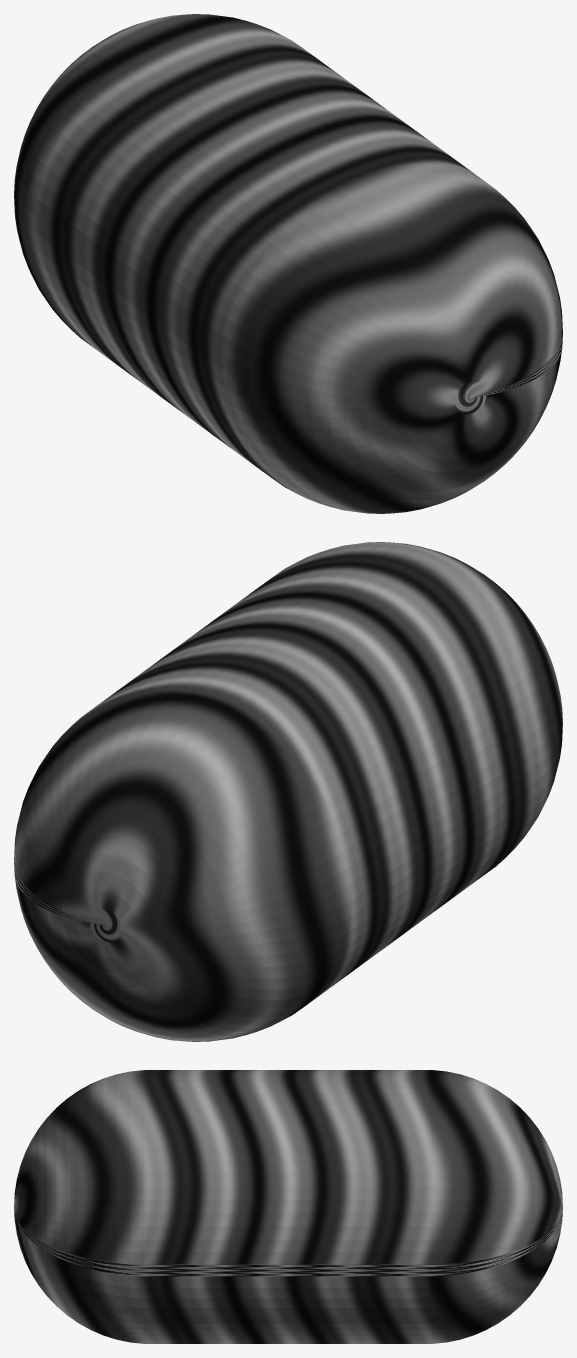
The model's file is capsule-wide.glb.
3 renders of one model, top to bottom at view 1: azimuth 30°, elevation 25°; view 2: azimuth 150°, elevation 25°; view 3: azimuth 270°, elevation 25°, orthographic. The views are drawn at different scales.
Visible parts, largest first — view 1: world; view 2: world; view 3: world.
Boxes of the visible parts, bbox=[...] form: world: bbox=[14, 14, 562, 513]; world: bbox=[14, 542, 562, 1041]; world: bbox=[14, 1070, 562, 1343].
Size of the model in its own units: 0.6991 by 0.6991 by 1.4.
1 material, 1 textured.
